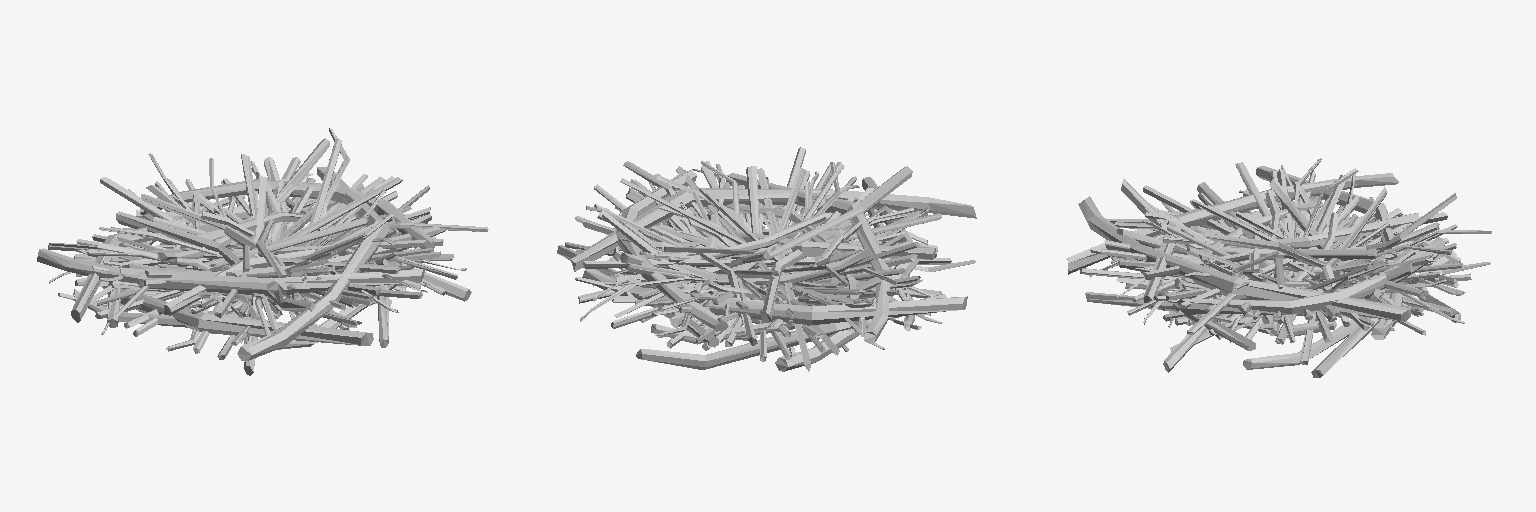
File: nest_LOD1.obj
3 renders of one model, left to right at view 1: azimuth 30°, elevation 25°; view 2: azimuth 150°, elevation 25°; view 3: azimuth 270°, elevation 25°, orthographic.
Visible parts, largest first — view 1: barn.021_Cube.022; view 2: barn.021_Cube.022; view 3: barn.021_Cube.022.
Part boxes in pixels (left/top/right/bottom): barn.021_Cube.022: left=37, top=128, right=488, bottom=375; barn.021_Cube.022: left=557, top=147, right=976, bottom=371; barn.021_Cube.022: left=1067, top=158, right=1491, bottom=377.
Bounding box in the file's own units: 46.36 × 13.45 × 45.